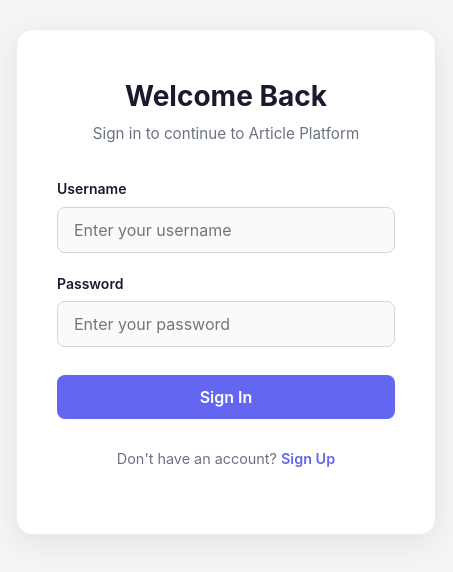
Test case: LoginPage › Form Validation › should show username error on blur
Click the field labelled "Username": (226, 230) x1=57 y1=207 x2=395 y2=253
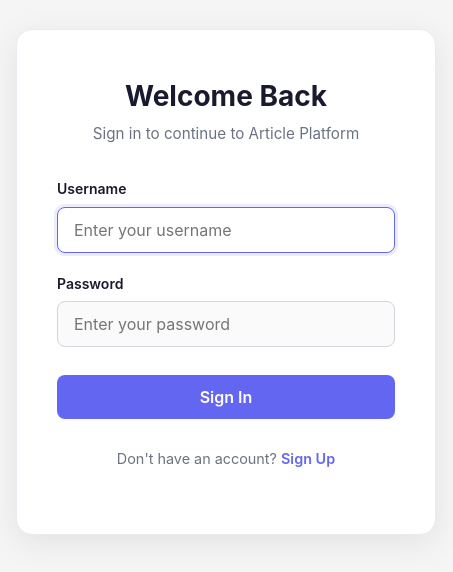
Press Tab
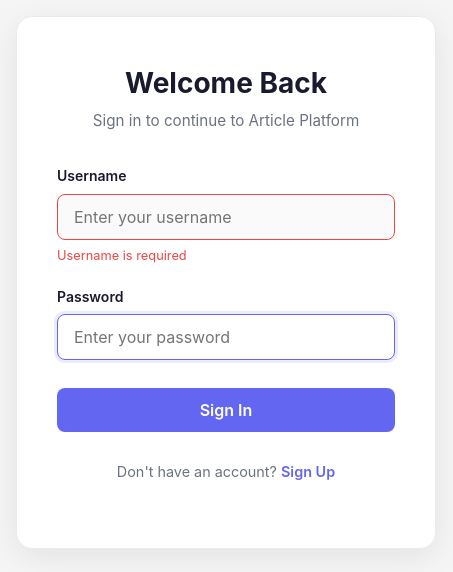
Expected: the text "Username is required" is shown, x1=57 y1=248 x2=187 y2=263
